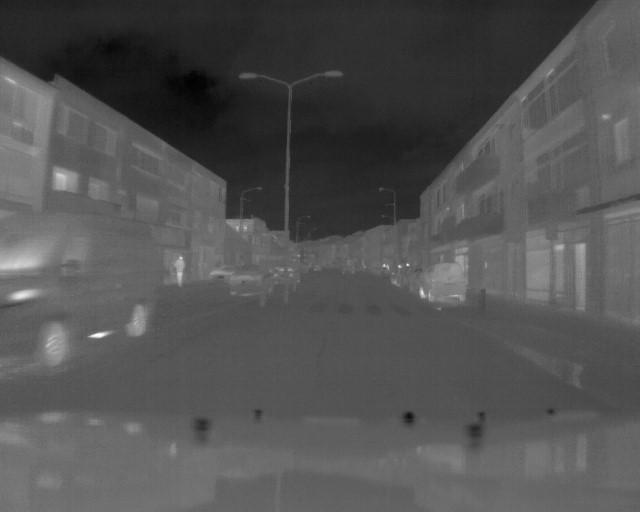car: (1, 210, 166, 372), (416, 260, 470, 304)
person: (171, 253, 188, 290)
